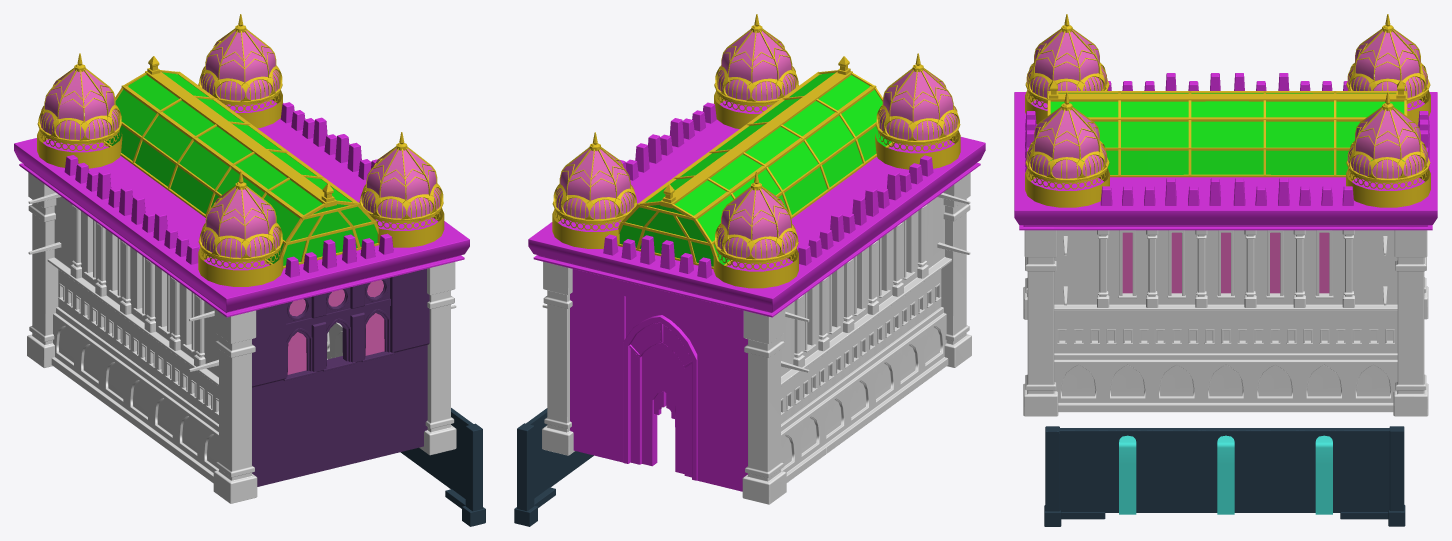
File: Ext_Cabinet_Low.fbx
The picture shows the model from 3 angles, left to right: view 1: azimuth 30°, elevation 25°; view 2: azimuth 150°, elevation 25°; view 3: azimuth 270°, elevation 25°; orthographic projection.
Parts seen in each view (by area): view 1: Cube.002, Plane.053, Cube.009, Cube.001, Glass_toit.001, Plane.059, Glass_Toit02.002, Cube.007, Cube.006, Cube.004, Plane.055, Plane.057 (+3 smaller); view 2: Plane.054, Cube.002, Cube.009, Cube.001, Glass_toit.001, Plane.059, Glass_Toit02.002, Cube.007, Cube.006, Cube.004; view 3: Cube.002, Cube.004, Cube.009, Glass_toit.001, Glass_Toit02.002, Plane.059, Cube.001, Cube.007, Cube.006, Plane.033, Plane.001, Plane.037 (+5 smaller).
Part boxes in pixels (x1=…): Cube.002: x1=28, y1=192, x2=456, y2=483; Plane.053: x1=252, y1=269, x2=429, y2=486; Cube.009: x1=14, y1=99, x2=469, y2=317; Cube.001: x1=27, y1=172, x2=456, y2=503; Glass_toit.001: x1=105, y1=72, x2=377, y2=265; Plane.059: x1=37, y1=14, x2=444, y2=286; Glass_Toit02.002: x1=40, y1=30, x2=440, y2=257; Cube.007: x1=103, y1=56, x2=379, y2=268; Cube.006: x1=64, y1=102, x2=406, y2=277; Cube.004: x1=400, y1=408, x2=485, y2=526; Plane.055: x1=323, y1=318, x2=355, y2=371; Plane.057: x1=365, y1=313, x2=384, y2=355; Plane.054: x1=570, y1=269, x2=747, y2=491; Cube.002: x1=542, y1=192, x2=970, y2=482; Cube.009: x1=528, y1=96, x2=985, y2=317; Cube.001: x1=542, y1=173, x2=971, y2=504; Glass_toit.001: x1=619, y1=72, x2=891, y2=266; Plane.059: x1=552, y1=14, x2=960, y2=288; Glass_Toit02.002: x1=555, y1=30, x2=957, y2=258; Cube.007: x1=618, y1=56, x2=894, y2=269; Cube.006: x1=603, y1=102, x2=933, y2=278; Cube.004: x1=514, y1=408, x2=593, y2=526; Cube.002: x1=1054, y1=230, x2=1397, y2=412; Cube.004: x1=1044, y1=426, x2=1405, y2=526; Cube.009: x1=1014, y1=92, x2=1437, y2=230; Glass_toit.001: x1=1050, y1=93, x2=1404, y2=174; Glass_Toit02.002: x1=1027, y1=30, x2=1427, y2=178; Plane.059: x1=1025, y1=14, x2=1430, y2=207; Cube.001: x1=1023, y1=230, x2=1428, y2=416; Cube.007: x1=1047, y1=80, x2=1407, y2=177; Cube.006: x1=1025, y1=73, x2=1429, y2=205; Plane.033: x1=1217, y1=435, x2=1234, y2=514; Plane.001: x1=1315, y1=435, x2=1332, y2=514; Plane.037: x1=1119, y1=435, x2=1136, y2=514.
Bounding box in the file's own units: 5343 × 7173 × 6890.
